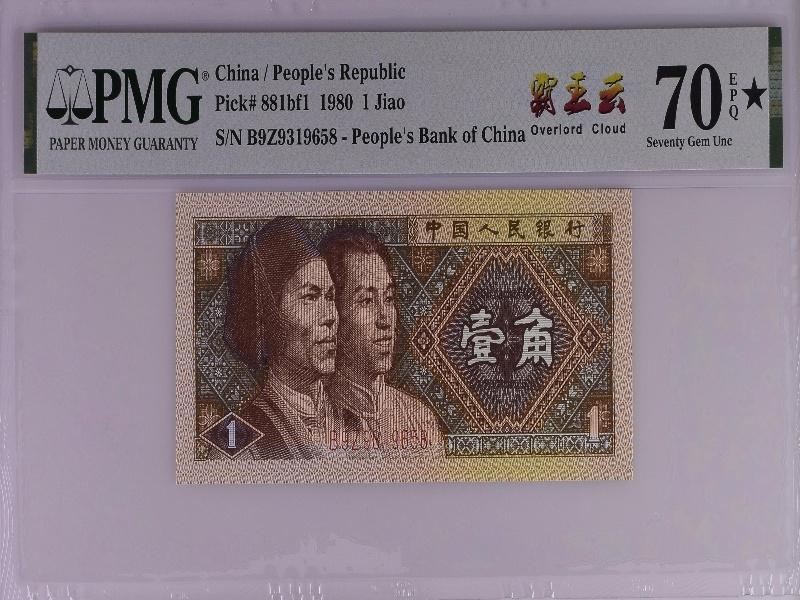papernote: (171, 188, 637, 483)
